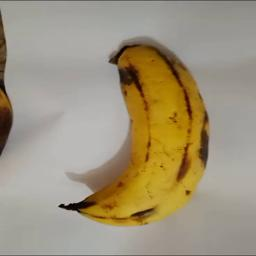Banana Semifresh: (57, 43, 215, 228)
